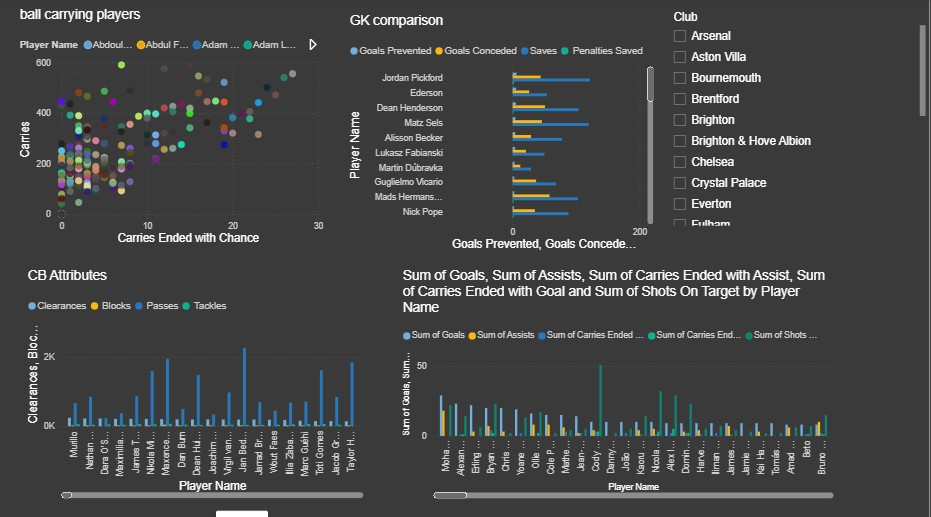

This screenshot's page, from the dashboard's own definition file:
{"tool":"powerbi","page":{"name":"Page 2","canvas":[1280,720],"ordinal":1},"visuals":[{"type":"scatterChart","title":"ball carrying players ","fields":{"Y":["epl_player_stats_24_25.Carries"],"X":["epl_player_stats_24_25.Carries Ended with Chance"],"Series":["epl_player_stats_24_25.Player Name"]},"box":[23,12,428,332],"z":0},{"type":"clusteredColumnChart","title":"CB Attributes","fields":{"Category":["epl_player_stats_24_25.Player Name"],"Y":["Sum(epl_player_stats_24_25.Clearances)","Sum(epl_player_stats_24_25.Blocks)","Sum(epl_player_stats_24_25.Passes)","Sum(epl_player_stats_24_25.Tackles)"]},"box":[34,371,472,322],"z":1000},{"type":"clusteredBarChart","title":"GK comparison","fields":{"Category":["epl_player_stats_24_25.Player Name"],"Y":["Sum(epl_player_stats_24_25.Goals Prevented)","Sum(epl_player_stats_24_25.Goals Conceded)","Sum(epl_player_stats_24_25.Saves)","Sum(epl_player_stats_24_25.Penalties Saved)"]},"box":[478,20,428,332],"z":2000},{"type":"slicer","fields":{"Values":["epl_player_stats_24_25.Club"]},"box":[915,12,365,306],"z":3000},{"type":"clusteredColumnChart","fields":{"Category":["epl_player_stats_24_25.Player Name"],"Y":["Sum(epl_player_stats_24_25.Goals)","Sum(epl_player_stats_24_25.Assists)","Sum(epl_player_stats_24_25.Carries Ended with Assist)","Sum(epl_player_stats_24_25.Carries Ended with Goal)","Sum(epl_player_stats_24_25.Shots On Target)"]},"box":[551,371,603,322],"z":3001}]}

Visuals, with their boxes in screenshot pixels (x1, y1, x2, y2), scaled from the page's 1280x720 canvas onto the 931x517 screenshot:
"ball carrying players " scatterChart: box=[17, 9, 328, 247]
"CB Attributes" clusteredColumnChart: box=[25, 266, 368, 498]
"GK comparison" clusteredBarChart: box=[348, 14, 659, 253]
slicer - epl_player_stats_24_25.Club: box=[666, 9, 930, 228]
clusteredColumnChart - epl_player_stats_24_25.Player Name x Sum(epl_player_stats_24_25.Goals): box=[401, 266, 839, 498]
